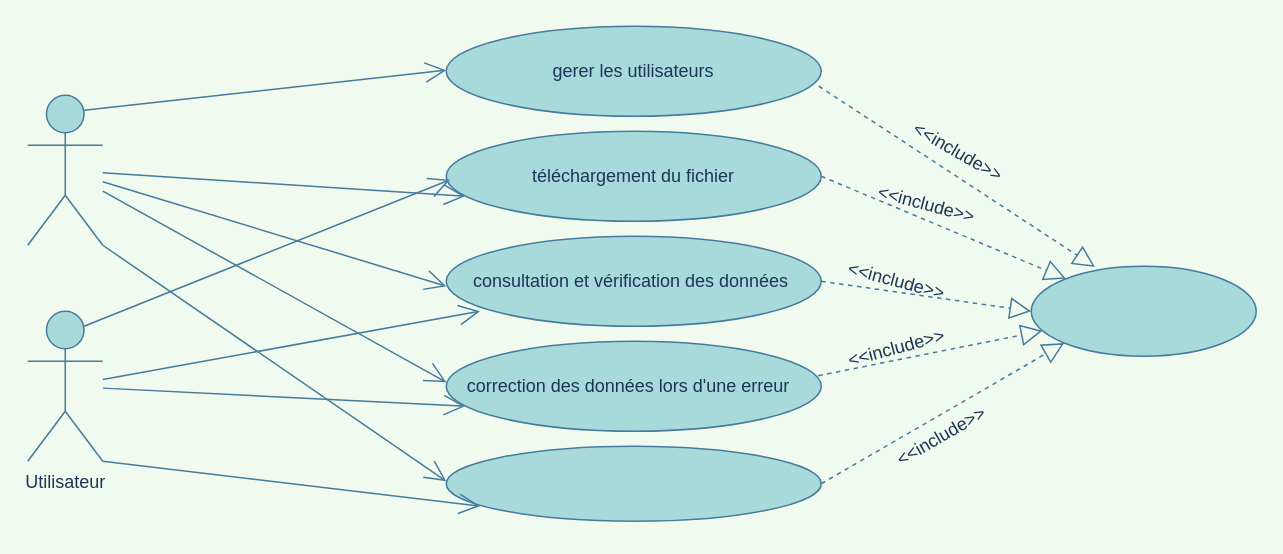
Some shapes in this 1283 by 554 pixel diagram are drawn without their labels. The box of each missing label's shape, as (x1, y1, x2, y2) in pixels:
Admin: (26, 94, 103, 245)
authentification: (1030, 265, 1256, 356)
validation des données: (445, 445, 821, 521)
